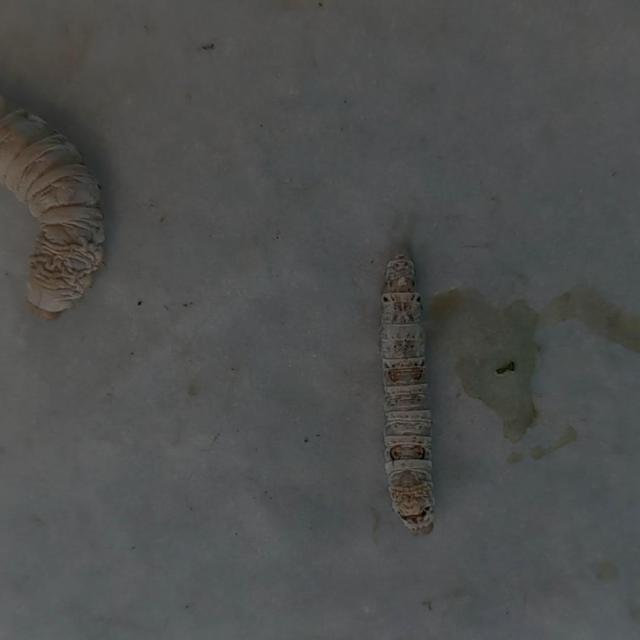Grasserie: (358, 232, 459, 549)
